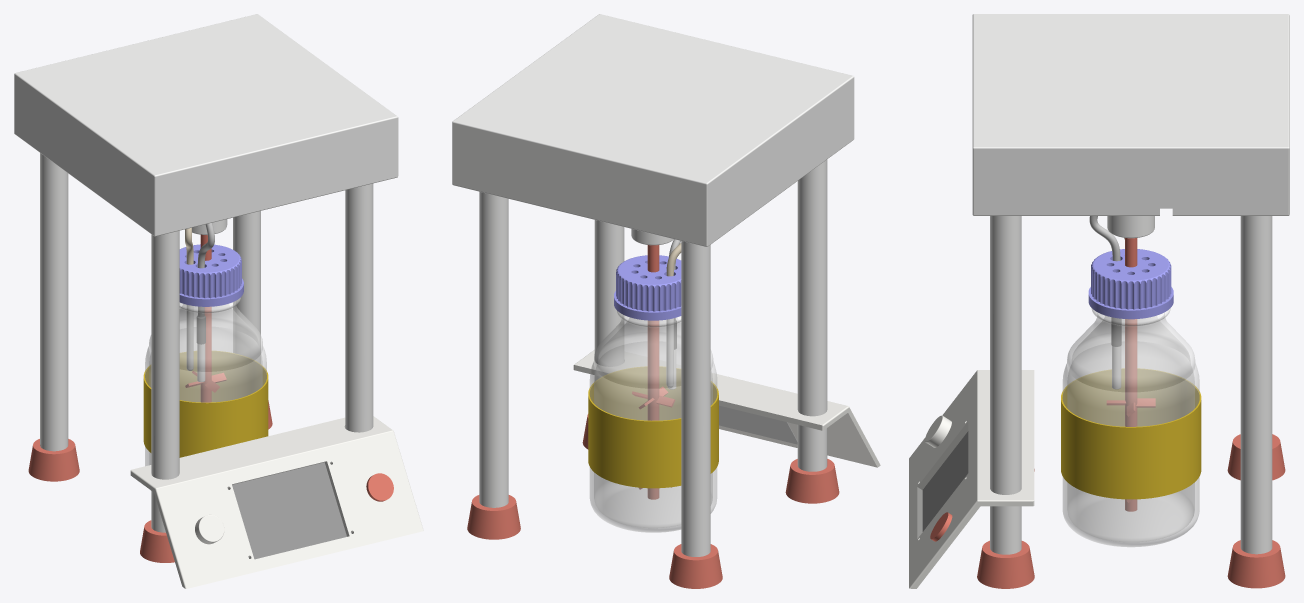
The model's file is bioreactor.glb.
3 views of the same model, side by side, from view 1: azimuth 30°, elevation 25°; view 2: azimuth 150°, elevation 25°; view 3: azimuth 270°, elevation 25° (orthographic). The views are drawn at different scales.
Visible parts, largest first — view 1: /Bioreactor_Assembly_1/MeshInstance_7/Support_A, /Bioreactor_Assembly_1/MeshInstance_36/Body1, /Bioreactor_Assembly_1/MeshInstance_8/Support_B1, /Bioreactor_Assembly_1/MeshInstance_41/Bottle, /Bioreactor_Assembly_1/MeshInstance_37/Body1, /Bioreactor_Assembly_1/MeshInstance_40/Body1, /Bioreactor_Assembly_1/MeshInstance_10/Support_B3, /Bioreactor_Assembly_1/MeshInstance_9/Support_B2, /Bioreactor_Assembly_1/MeshInstance_35/Body1, /Bioreactor_Assembly_1/MeshInstance_34/Body1, /Bioreactor_Assembly_1/MeshInstance_11/Support_B4, /Bioreactor_Assembly_1/MeshInstance_43/Bottle_Cap (+5 smaller); view 2: /Bioreactor_Assembly_1/MeshInstance_7/Support_A, /Bioreactor_Assembly_1/MeshInstance_41/Bottle, /Bioreactor_Assembly_1/MeshInstance_8/Support_B1, /Bioreactor_Assembly_1/MeshInstance_11/Support_B4, /Bioreactor_Assembly_1/MeshInstance_10/Support_B3, /Bioreactor_Assembly_1/MeshInstance_36/Body1, /Bioreactor_Assembly_1/MeshInstance_35/Body1, /Bioreactor_Assembly_1/MeshInstance_34/Body1, /Bioreactor_Assembly_1/MeshInstance_9/Support_B2, /Bioreactor_Assembly_1/MeshInstance_43/Bottle_Cap, /Bioreactor_Assembly_1/MeshInstance_14/Body3, /Bioreactor_Assembly_1/MeshInstance_15/Body4 (+3 smaller); view 3: /Bioreactor_Assembly_1/MeshInstance_7/Support_A, /Bioreactor_Assembly_1/MeshInstance_41/Bottle, /Bioreactor_Assembly_1/MeshInstance_11/Support_B4, /Bioreactor_Assembly_1/MeshInstance_36/Body1, /Bioreactor_Assembly_1/MeshInstance_9/Support_B2, /Bioreactor_Assembly_1/MeshInstance_35/Body1, /Bioreactor_Assembly_1/MeshInstance_34/Body1, /Bioreactor_Assembly_1/MeshInstance_43/Bottle_Cap, /Bioreactor_Assembly_1/MeshInstance_37/Body1, /Bioreactor_Assembly_1/MeshInstance_12/Body1, /Bioreactor_Assembly_1/MeshInstance_13/Body2, /Bioreactor_Assembly_1/MeshInstance_40/Body1 (+4 smaller).
Boxes of the visible parts, x1=… form: /Bioreactor_Assembly_1/MeshInstance_7/Support_A: x1=14, y1=14, x2=398, y2=236; /Bioreactor_Assembly_1/MeshInstance_36/Body1: x1=130, y1=416, x2=423, y2=588; /Bioreactor_Assembly_1/MeshInstance_8/Support_B1: x1=40, y1=153, x2=68, y2=451; /Bioreactor_Assembly_1/MeshInstance_41/Bottle: x1=145, y1=297, x2=266, y2=490; /Bioreactor_Assembly_1/MeshInstance_37/Body1: x1=232, y1=461, x2=349, y2=558; /Bioreactor_Assembly_1/MeshInstance_40/Body1: x1=232, y1=462, x2=346, y2=559; /Bioreactor_Assembly_1/MeshInstance_10/Support_B3: x1=151, y1=230, x2=179, y2=532; /Bioreactor_Assembly_1/MeshInstance_9/Support_B2: x1=345, y1=183, x2=373, y2=432; /Bioreactor_Assembly_1/MeshInstance_35/Body1: x1=180, y1=351, x2=268, y2=443; /Bioreactor_Assembly_1/MeshInstance_34/Body1: x1=143, y1=365, x2=237, y2=457; /Bioreactor_Assembly_1/MeshInstance_11/Support_B4: x1=233, y1=211, x2=260, y2=363; /Bioreactor_Assembly_1/MeshInstance_43/Bottle_Cap: x1=179, y1=244, x2=243, y2=306; /Bioreactor_Assembly_1/MeshInstance_7/Support_A: x1=452, y1=14, x2=854, y2=246; /Bioreactor_Assembly_1/MeshInstance_41/Bottle: x1=589, y1=311, x2=717, y2=532; /Bioreactor_Assembly_1/MeshInstance_8/Support_B1: x1=681, y1=241, x2=710, y2=556; /Bioreactor_Assembly_1/MeshInstance_11/Support_B4: x1=479, y1=191, x2=508, y2=507; /Bioreactor_Assembly_1/MeshInstance_10/Support_B3: x1=797, y1=159, x2=827, y2=471; /Bioreactor_Assembly_1/MeshInstance_36/Body1: x1=573, y1=350, x2=880, y2=467; /Bioreactor_Assembly_1/MeshInstance_35/Body1: x1=588, y1=366, x2=680, y2=484; /Bioreactor_Assembly_1/MeshInstance_34/Body1: x1=621, y1=381, x2=718, y2=488; /Bioreactor_Assembly_1/MeshInstance_9/Support_B2: x1=594, y1=220, x2=624, y2=380; /Bioreactor_Assembly_1/MeshInstance_43/Bottle_Cap: x1=614, y1=255, x2=681, y2=320; /Bioreactor_Assembly_1/MeshInstance_14/Body3: x1=669, y1=544, x2=722, y2=588; /Bioreactor_Assembly_1/MeshInstance_15/Body4: x1=785, y1=459, x2=839, y2=503; /Bioreactor_Assembly_1/MeshInstance_7/Support_A: x1=972, y1=14, x2=1289, y2=215; /Bioreactor_Assembly_1/MeshInstance_41/Bottle: x1=1062, y1=308, x2=1199, y2=547; /Bioreactor_Assembly_1/MeshInstance_11/Support_B4: x1=1240, y1=216, x2=1272, y2=554; /Bioreactor_Assembly_1/MeshInstance_36/Body1: x1=909, y1=370, x2=1034, y2=588; /Bioreactor_Assembly_1/MeshInstance_9/Support_B2: x1=990, y1=216, x2=1021, y2=554; /Bioreactor_Assembly_1/MeshInstance_35/Body1: x1=1061, y1=398, x2=1201, y2=499; /Bioreactor_Assembly_1/MeshInstance_34/Body1: x1=1061, y1=368, x2=1201, y2=426; /Bioreactor_Assembly_1/MeshInstance_43/Bottle_Cap: x1=1088, y1=249, x2=1173, y2=319; /Bioreactor_Assembly_1/MeshInstance_37/Body1: x1=917, y1=422, x2=967, y2=538; /Bioreactor_Assembly_1/MeshInstance_12/Body1: x1=1227, y1=540, x2=1285, y2=588; /Bioreactor_Assembly_1/MeshInstance_13/Body2: x1=977, y1=540, x2=1034, y2=588; /Bioreactor_Assembly_1/MeshInstance_40/Body1: x1=922, y1=431, x2=968, y2=531.
Bounding box in the file's own units: 0.2 × 0.3082 × 0.24.
